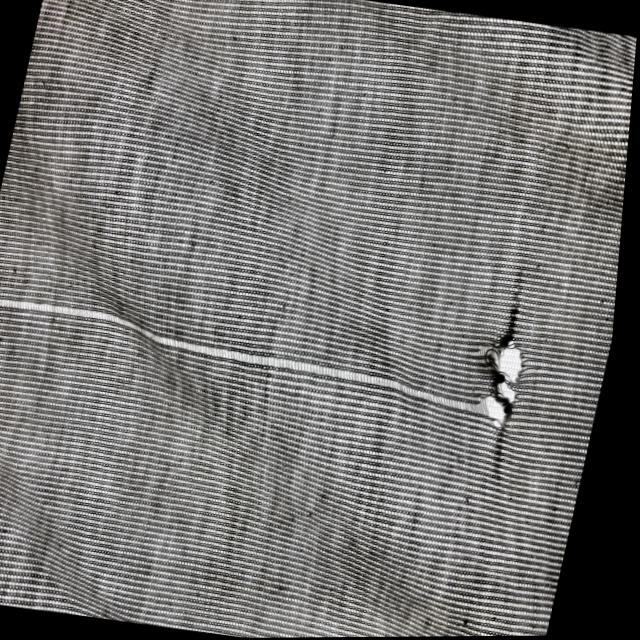Hole: (219, 495, 288, 581)
Stitch: (171, 0, 372, 569)
